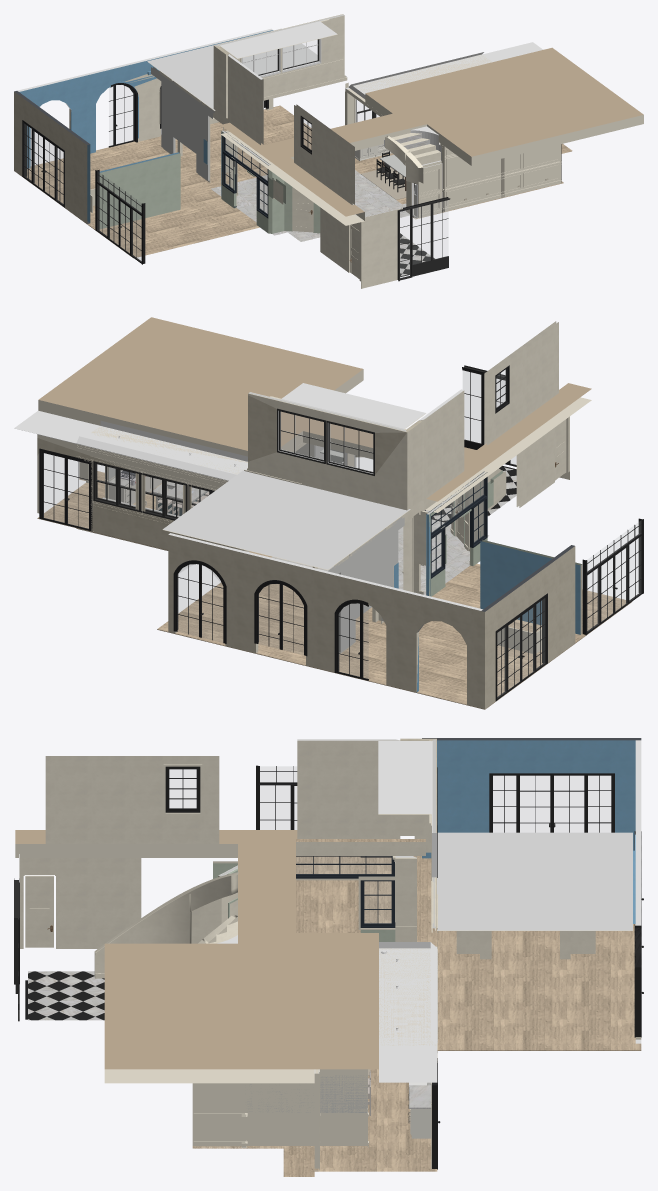
The model's file is kitchen-789b17c60de6.glb.
The picture shows the model from 3 angles, top to bottom: view 1: azimuth 30°, elevation 25°; view 2: azimuth 150°, elevation 25°; view 3: azimuth 270°, elevation 25°; orthographic projection. The views are drawn at different scales.
Visible parts, largest first — view 1: kitchen-look-2575515a05775d9e, kitchen-look-3b0077416469e01b, kitchen-look-969b861f9850351e, kitchen-look-b19b106fc304963c, kitchen-19647d6da46c2b80, kitchen-look-039192b0560cfac3, kitchen-look-698abdfdc6fb970d, kitchen-look-4a969f5cc1ae3dfe, kitchen-look-746250f96522f643, kitchen-look-55ff1dfd7b659ec1, kitchen-look-08d72923bcfd3529, kitchen-look-245f595ae2832e16 (+29 smaller); view 2: kitchen-look-2575515a05775d9e, kitchen-look-969b861f9850351e, kitchen-look-3b0077416469e01b, kitchen-look-4a969f5cc1ae3dfe, kitchen-look-245f595ae2832e16, kitchen-look-039192b0560cfac3, kitchen-look-746250f96522f643, kitchen-bfb9fa537cd11d1d, kitchen-look-08d72923bcfd3529, kitchen-look-b57b1dfcc6ff1bca, kitchen-look-7f59123d155b94ce, kitchen-look-9fbf623a647a21dd (+28 smaller); view 3: kitchen-look-2575515a05775d9e, kitchen-look-3b0077416469e01b, kitchen-look-4a969f5cc1ae3dfe, kitchen-look-746250f96522f643, kitchen-look-039192b0560cfac3, kitchen-look-7f59123d155b94ce, kitchen-look-85f0fd939e0fcc78, kitchen-look-9fbf623a647a21dd, kitchen-9a0e9ee9b2a451d7, kitchen-look-9d91b47435c6fb33, kitchen-5b6bbac285e58726, kitchen-look-c4ac463b6a960119 (+25 smaller).
Boxes of the visible parts, left/top/right/bottom form: kitchen-look-2575515a05775d9e: left=221, top=47, right=643, bottom=225; kitchen-look-3b0077416469e01b: left=14, top=105, right=572, bottom=257; kitchen-look-969b861f9850351e: left=17, top=28, right=273, bottom=168; kitchen-look-b19b106fc304963c: left=99, top=152, right=180, bottom=229; kitchen-19647d6da46c2b80: left=444, top=144, right=560, bottom=207; kitchen-look-039192b0560cfac3: left=14, top=91, right=90, bottom=223; kitchen-look-698abdfdc6fb970d: left=397, top=197, right=450, bottom=281; kitchen-look-4a969f5cc1ae3dfe: left=147, top=28, right=346, bottom=110; kitchen-look-746250f96522f643: left=294, top=104, right=354, bottom=205; kitchen-look-55ff1dfd7b659ec1: left=151, top=67, right=214, bottom=180; kitchen-look-08d72923bcfd3529: left=95, top=169, right=145, bottom=264; kitchen-look-245f595ae2832e16: left=213, top=14, right=344, bottom=108; kitchen-look-2575515a05775d9e: left=38, top=317, right=591, bottom=512; kitchen-look-969b861f9850351e: left=168, top=533, right=482, bottom=707; kitchen-look-3b0077416469e01b: left=37, top=471, right=631, bottom=709; kitchen-look-4a969f5cc1ae3dfe: left=162, top=470, right=410, bottom=570; kitchen-look-245f595ae2832e16: left=248, top=392, right=407, bottom=510; kitchen-look-039192b0560cfac3: left=481, top=545, right=575, bottom=708; kitchen-look-746250f96522f643: left=484, top=321, right=558, bottom=445; kitchen-bfb9fa537cd11d1d: left=76, top=444, right=246, bottom=551; kitchen-look-08d72923bcfd3529: left=582, top=518, right=643, bottom=635; kitchen-look-b57b1dfcc6ff1bca: left=173, top=560, right=226, bottom=643; kitchen-look-7f59123d155b94ce: left=418, top=389, right=464, bottom=511; kitchen-look-9fbf623a647a21dd: left=495, top=593, right=547, bottom=701; kitchen-look-2575515a05775d9e: left=15, top=830, right=378, bottom=1083; kitchen-look-3b0077416469e01b: left=283, top=856, right=641, bottom=1176; kitchen-look-4a969f5cc1ae3dfe: left=437, top=832, right=632, bottom=930; kitchen-look-746250f96522f643: left=45, top=756, right=219, bottom=843; kitchen-look-039192b0560cfac3: left=422, top=738, right=641, bottom=858; kitchen-look-7f59123d155b94ce: left=297, top=739, right=400, bottom=838; kitchen-look-85f0fd939e0fcc78: left=19, top=858, right=141, bottom=948; kitchen-look-9fbf623a647a21dd: left=489, top=773, right=614, bottom=832; kitchen-9a0e9ee9b2a451d7: left=379, top=948, right=436, bottom=1045; kitchen-look-9d91b47435c6fb33: left=378, top=741, right=431, bottom=814; kitchen-5b6bbac285e58726: left=246, top=1083, right=314, bottom=1147; kitchen-look-c4ac463b6a960119: left=28, top=971, right=104, bottom=1020.
Size of the model in its own units: 20.89 by 6.36 by 16.86.
Materials: 66 (13 with a texture image).
